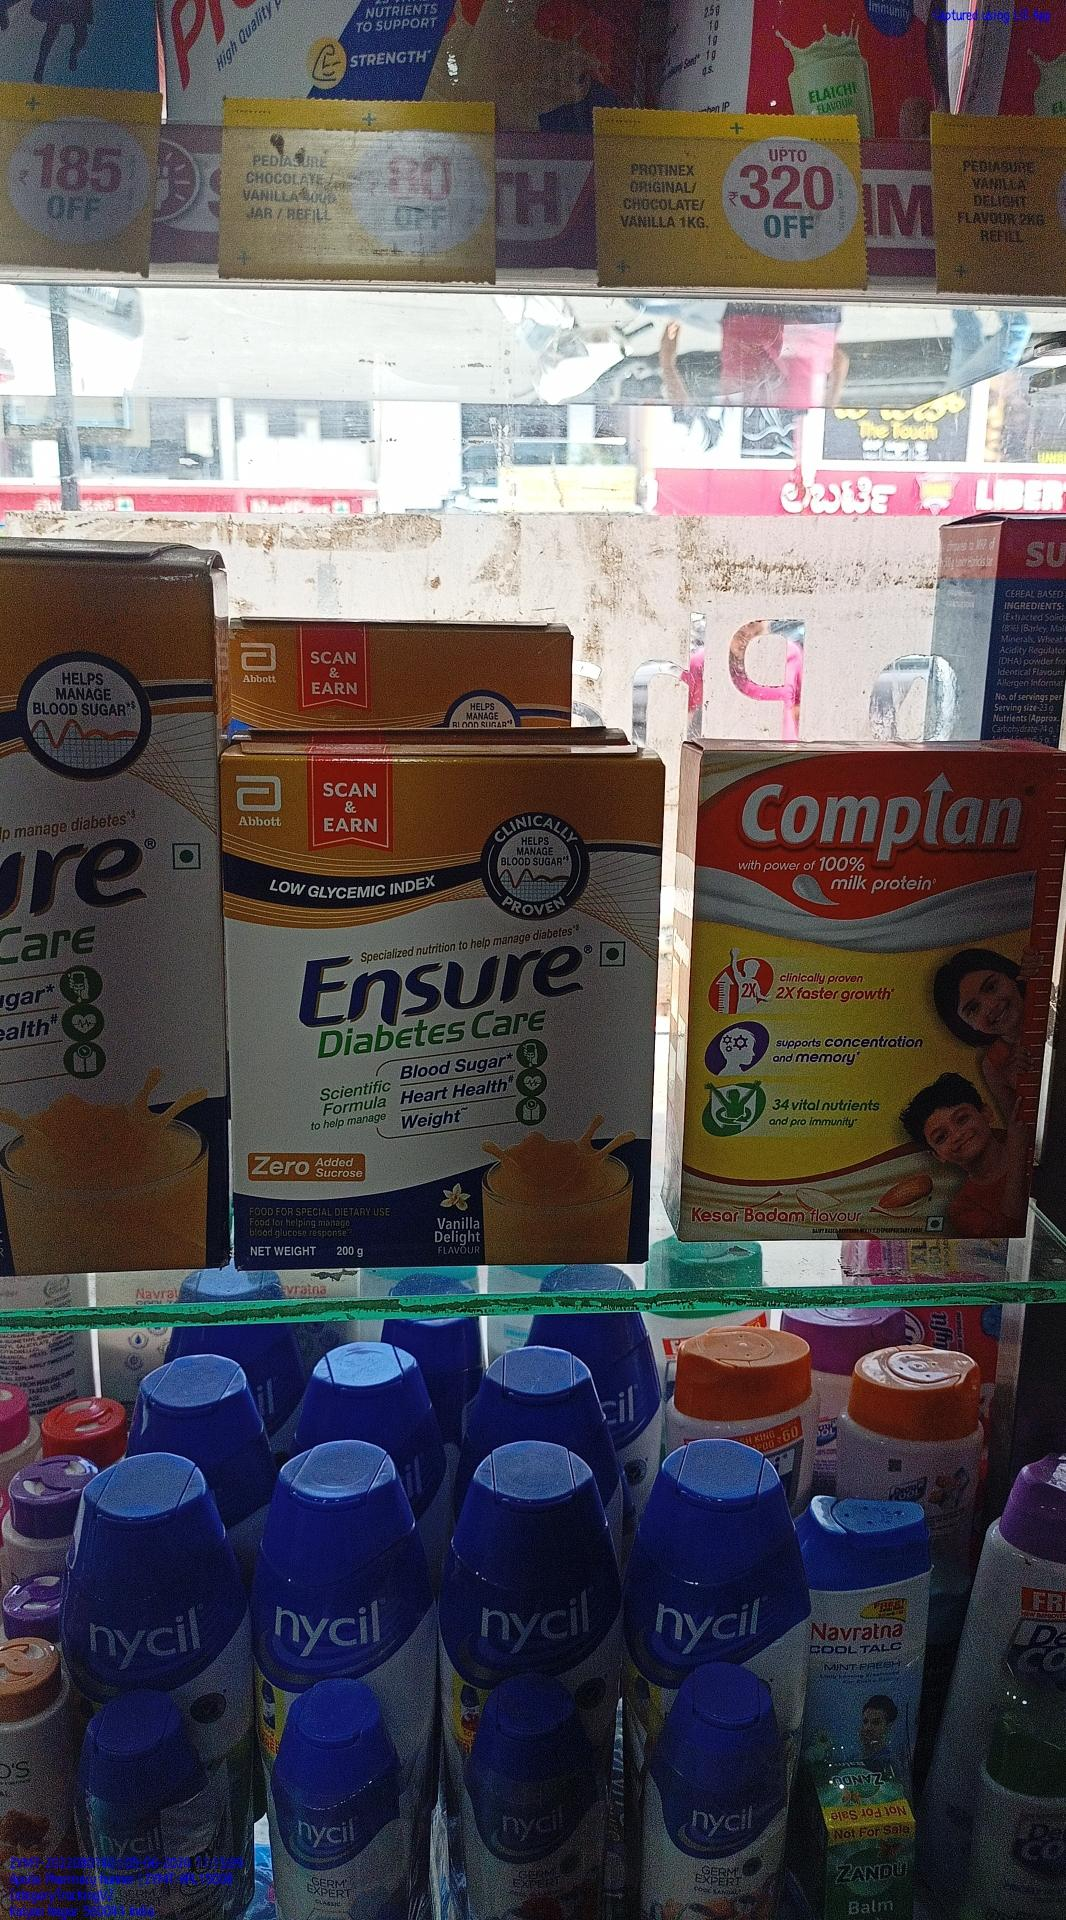COMPLAN_KESAR_BADAM_500_GMS_PACK: (684, 744, 1031, 1242)
